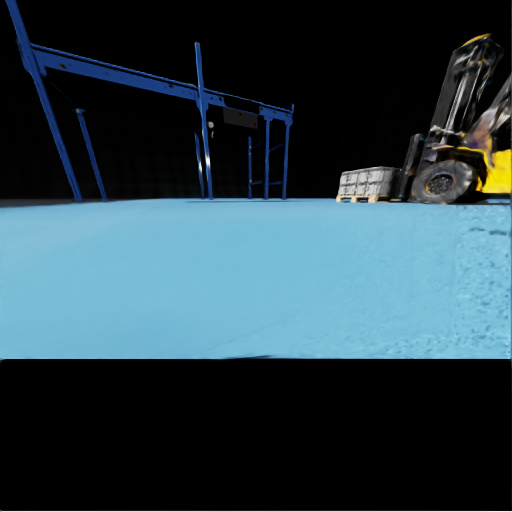transportation_area: (356, 181, 396, 194), (359, 194, 368, 197)
